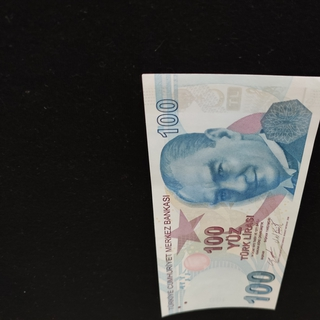100TLFront: (140, 72, 320, 318)
